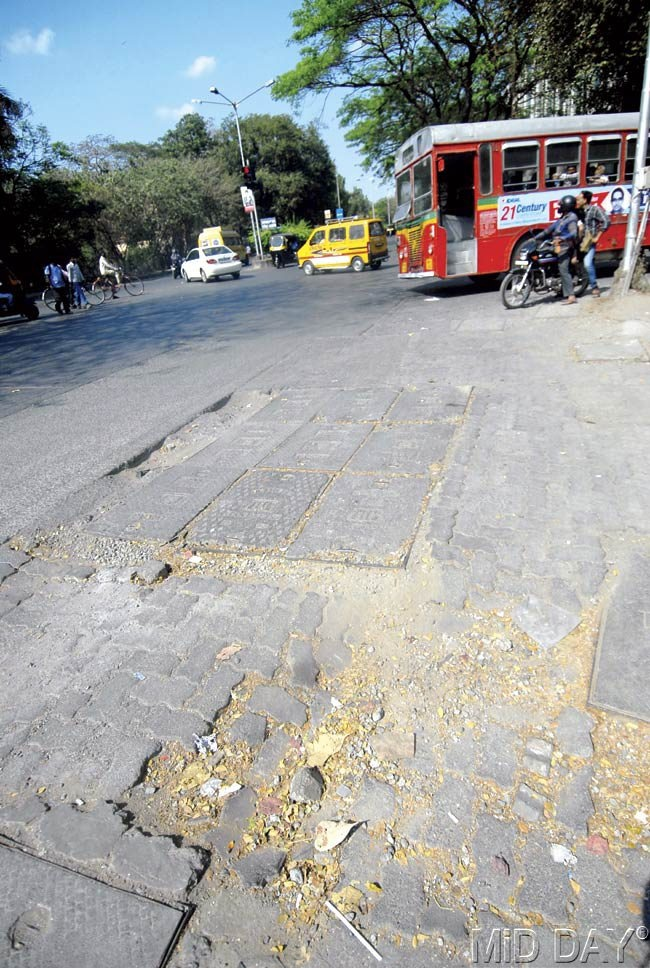pothole: (126, 635, 517, 890)
